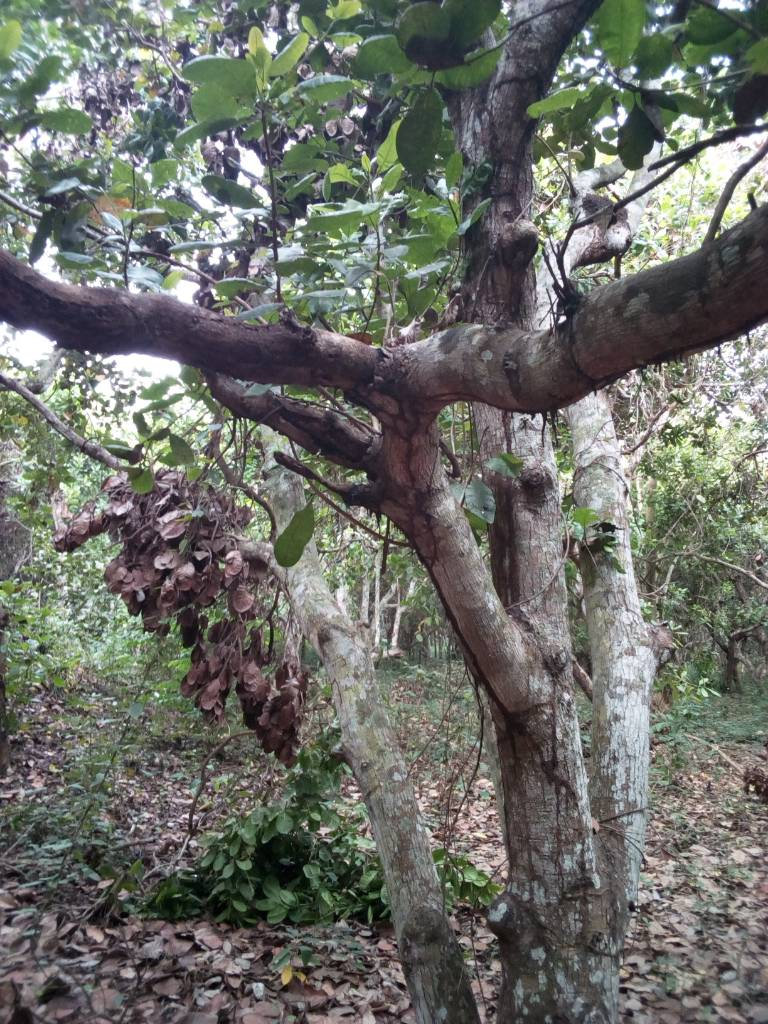Termites: (1, 271, 336, 358), (496, 697, 583, 807)
